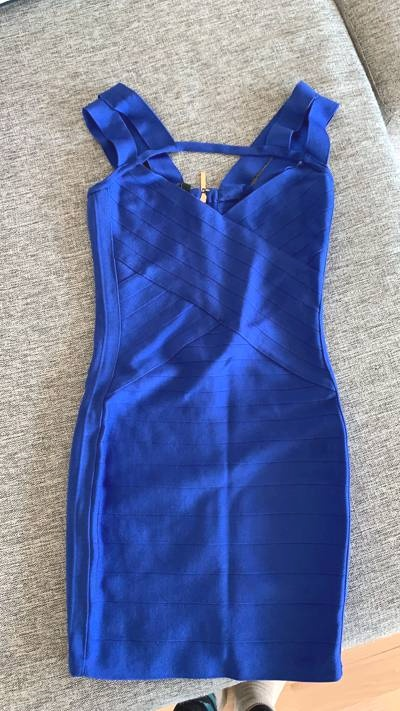Dress: (39, 73, 379, 687)
